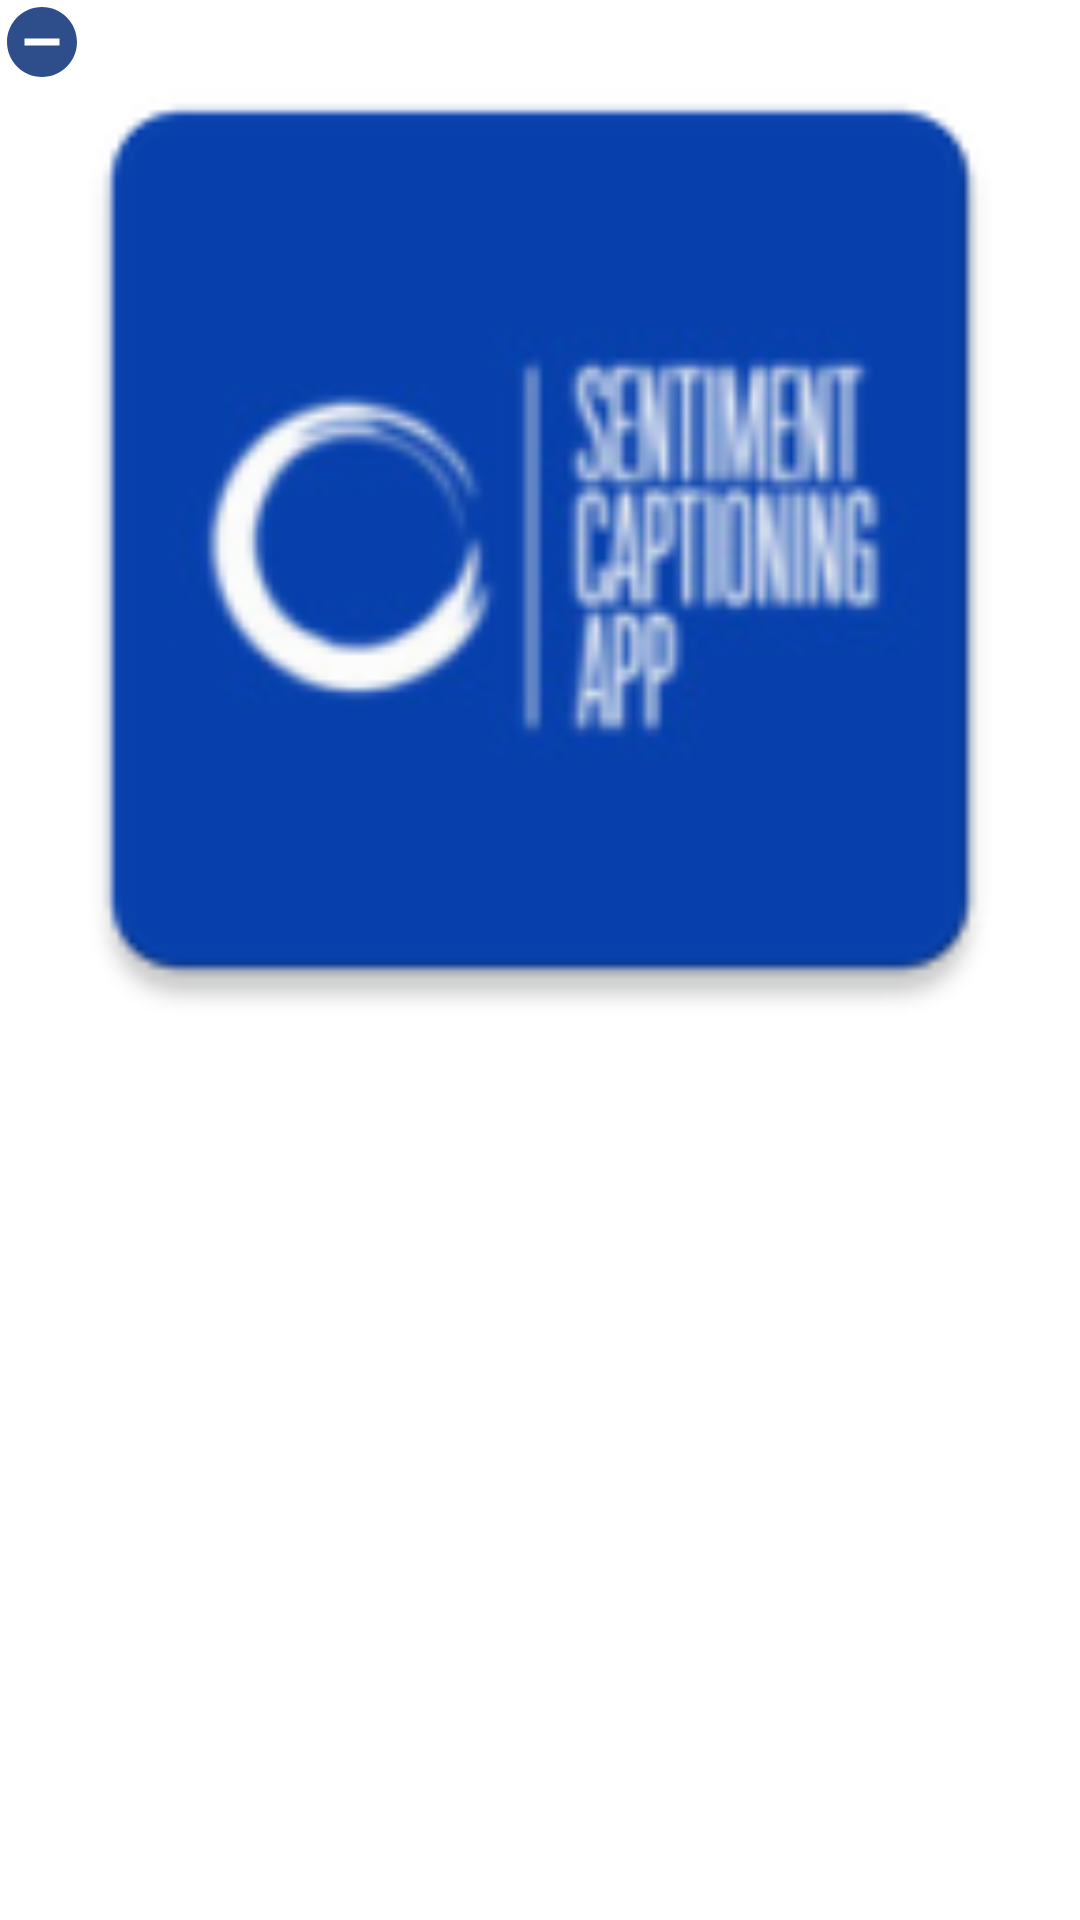

Locate icon controls on the screen. Image size 1080px x 1920px, boxes as {"x1": x1, "y1": y1, "x2": x2, "y2": y2}.
remove circle: {"x1": 7, "y1": 7, "x2": 77, "y2": 77}
